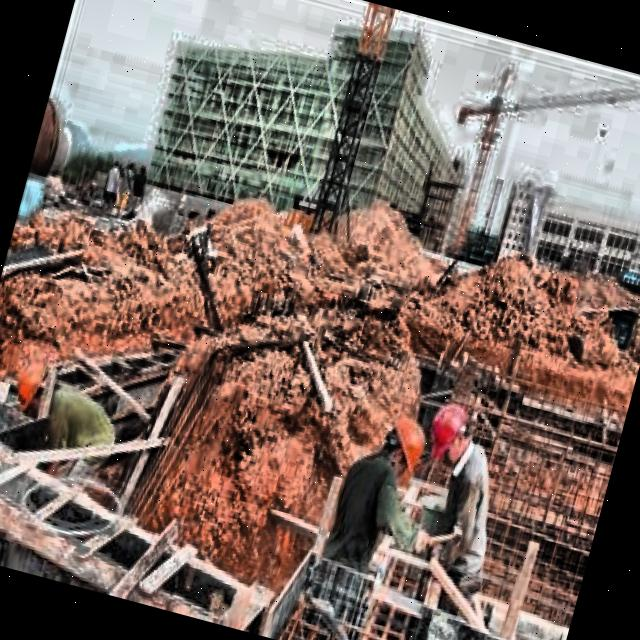helmet: (420, 398, 476, 469), (378, 414, 433, 486)
